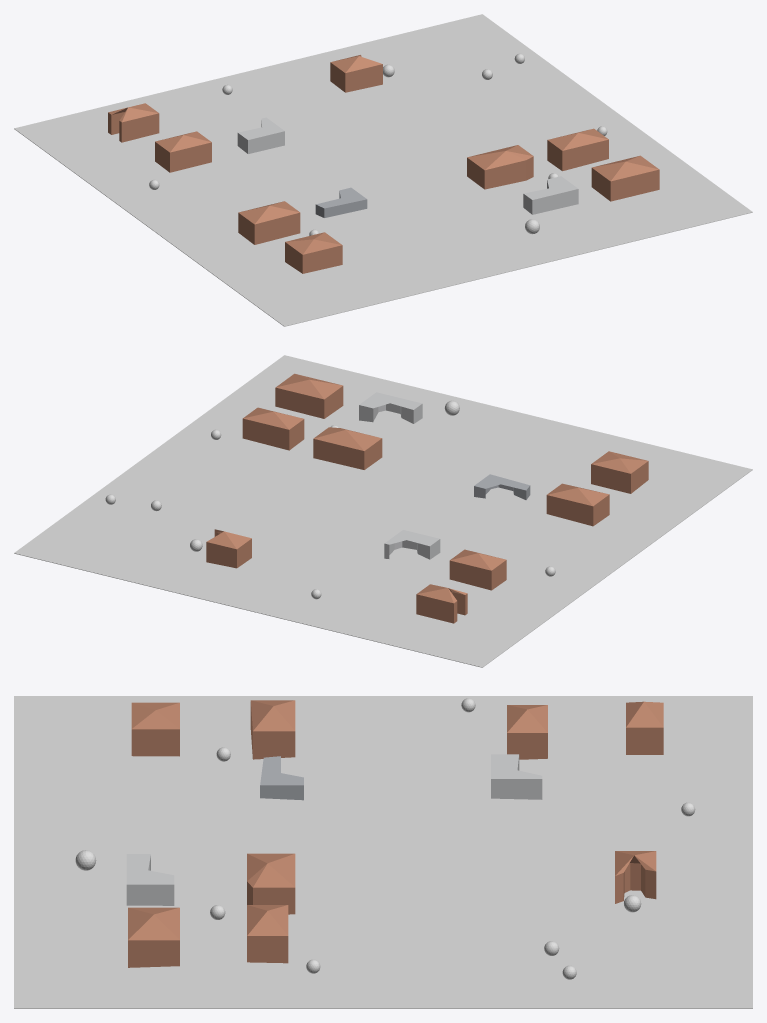
The picture shows the model from 3 angles, top to bottom: view 1: azimuth 30°, elevation 25°; view 2: azimuth 150°, elevation 25°; view 3: azimuth 270°, elevation 25°; orthographic projection. The views are drawn at different scales.
Parts seen in each view (by area): view 1: Ground_Base, BLD-010, BLD-007, BLD-006, BLD-008, BLD-009, BLD-003, BLD-002, BLD-001, BLD-011, BLD-004, BLD-005; view 2: Ground_Base, BLD-010, BLD-007, BLD-006, BLD-008, BLD-009, BLD-003, BLD-001, BLD-002, BLD-011, BLD-004, BLD-005; view 3: Ground_Base, BLD-010, BLD-009, BLD-006, BLD-007, BLD-008, BLD-003, BLD-011, BLD-001, BLD-004, BLD-002, BLD-005.
Boxes of the visible parts, bbox=[...] form: Ground_Base: bbox=[14, 14, 752, 326]; BLD-010: bbox=[591, 155, 659, 201]; BLD-007: bbox=[467, 145, 533, 189]; BLD-006: bbox=[238, 201, 300, 244]; BLD-008: bbox=[547, 128, 608, 171]; BLD-009: bbox=[285, 232, 342, 273]; BLD-003: bbox=[155, 131, 211, 172]; BLD-002: bbox=[330, 55, 382, 92]; BLD-001: bbox=[108, 103, 159, 142]; BLD-011: bbox=[523, 176, 578, 214]; BLD-004: bbox=[237, 117, 284, 153]; BLD-005: bbox=[315, 187, 367, 217]; Ground_Base: bbox=[14, 355, 752, 667]; BLD-010: bbox=[275, 373, 343, 418]; BLD-007: bbox=[313, 427, 382, 469]; BLD-006: bbox=[546, 483, 609, 526]; BLD-008: bbox=[242, 407, 304, 450]; BLD-009: bbox=[591, 451, 648, 493]; BLD-003: bbox=[449, 549, 506, 590]; BLD-001: bbox=[416, 584, 467, 623]; BLD-002: bbox=[206, 529, 251, 568]; BLD-011: bbox=[359, 392, 422, 423]; BLD-004: bbox=[384, 530, 440, 559]; BLD-005: bbox=[474, 474, 530, 499]; Ground_Base: bbox=[14, 696, 752, 1008]; BLD-010: bbox=[128, 907, 179, 967]; BLD-009: bbox=[131, 702, 179, 756]; BLD-006: bbox=[250, 700, 295, 759]; BLD-007: bbox=[247, 853, 295, 914]; BLD-008: bbox=[247, 905, 288, 963]; BLD-003: bbox=[507, 705, 547, 759]; BLD-011: bbox=[126, 854, 174, 905]; BLD-001: bbox=[626, 701, 663, 754]; BLD-004: bbox=[491, 754, 542, 799]; BLD-002: bbox=[615, 851, 656, 903]; BLD-005: bbox=[260, 756, 303, 800].
Bounding box in the file's own units: 410 × 27.61 × 410.
